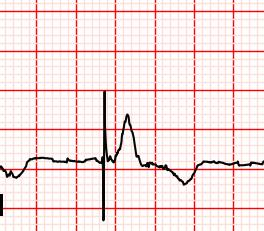T inversion: (161, 157, 208, 188)
